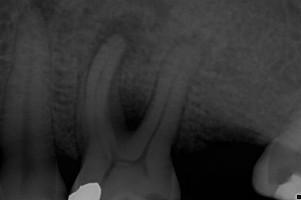Dental Caries: (161, 31, 215, 68), (117, 84, 149, 134)
Furcation Involvement: (88, 12, 157, 74)
